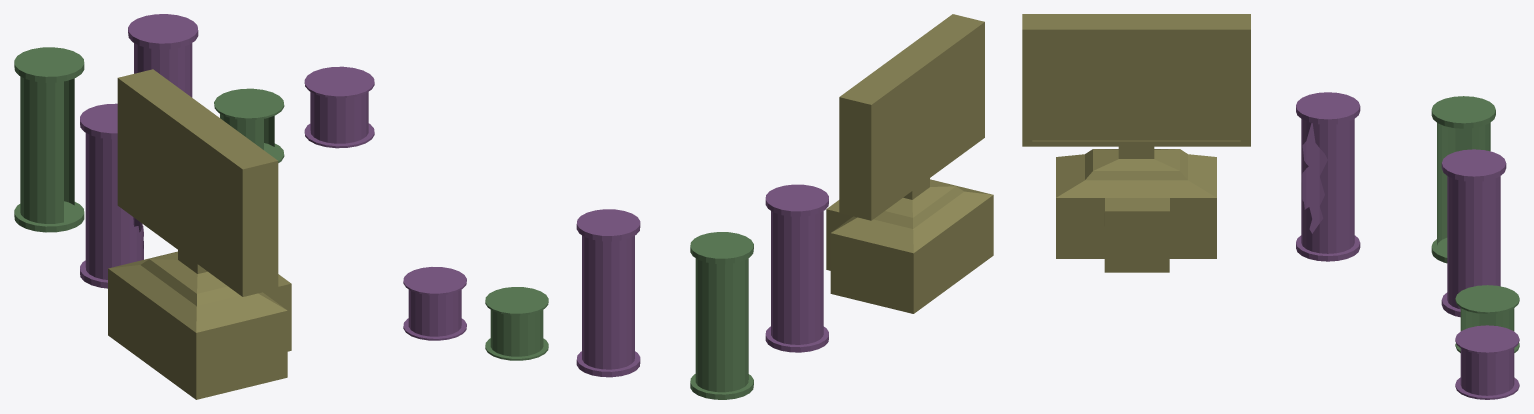
Rendered from Experimental Lab Furniture.fbx.
3 views of the same model, side by side, from view 1: azimuth 30°, elevation 25°; view 2: azimuth 150°, elevation 25°; view 3: azimuth 270°, elevation 25° (orthographic). The views are drawn at different scales.
Parts seen in each view (by area): view 1: Experimental_Lab_Computer, Experiment_Pod_Large_Empty, Experiment_Pod_Large_Broken, Experiment_Pod_Small, Experiment_Pod_Large, Experiment_Pod_Small_Empty; view 2: Experimental_Lab_Computer, Experiment_Pod_Large_Empty, Experiment_Pod_Large, Experiment_Pod_Large_Broken, Experiment_Pod_Small_Empty, Experiment_Pod_Small; view 3: Experimental_Lab_Computer, Experiment_Pod_Large_Broken, Experiment_Pod_Large, Experiment_Pod_Large_Empty, Experiment_Pod_Small, Experiment_Pod_Small_Empty.
Boxes of the visible parts, bbox=[...] form: Experimental_Lab_Computer: bbox=[108, 69, 291, 399]; Experiment_Pod_Large_Empty: bbox=[14, 47, 84, 232]; Experiment_Pod_Large_Broken: bbox=[80, 103, 143, 288]; Experiment_Pod_Small: bbox=[304, 66, 374, 148]; Experiment_Pod_Large: bbox=[128, 14, 198, 97]; Experiment_Pod_Small_Empty: bbox=[214, 88, 284, 162]; Experimental_Lab_Computer: bbox=[826, 14, 993, 313]; Experiment_Pod_Large_Empty: bbox=[690, 232, 753, 399]; Experiment_Pod_Large: bbox=[576, 209, 640, 377]; Experiment_Pod_Large_Broken: bbox=[765, 184, 828, 352]; Experiment_Pod_Small_Empty: bbox=[485, 287, 548, 360]; Experiment_Pod_Small: bbox=[403, 267, 466, 340]; Experimental_Lab_Computer: bbox=[1022, 14, 1250, 272]; Experiment_Pod_Large_Broken: bbox=[1296, 92, 1360, 261]; Experiment_Pod_Large: bbox=[1441, 149, 1506, 317]; Experiment_Pod_Large_Empty: bbox=[1431, 96, 1495, 263]; Experiment_Pod_Small: bbox=[1455, 325, 1519, 399]; Experiment_Pod_Small_Empty: bbox=[1455, 285, 1519, 352].
Size of the model in its own units: 13.44 by 7.43 by 15.46.
